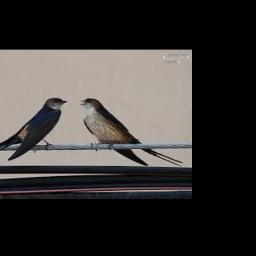Swallow: (80, 99, 184, 166), (0, 97, 68, 164)
